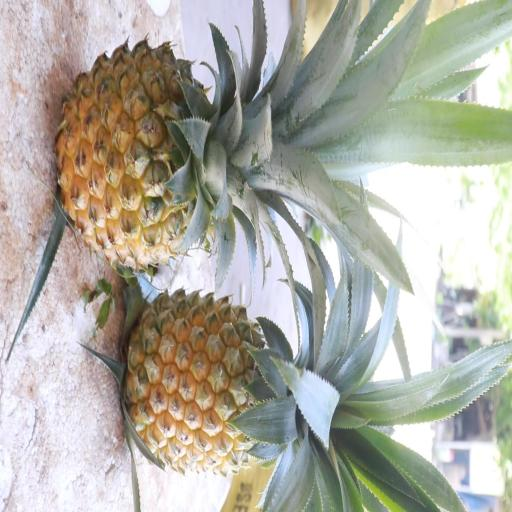Pineapple - v8 v1: (52, 30, 305, 276), (120, 280, 360, 482)
